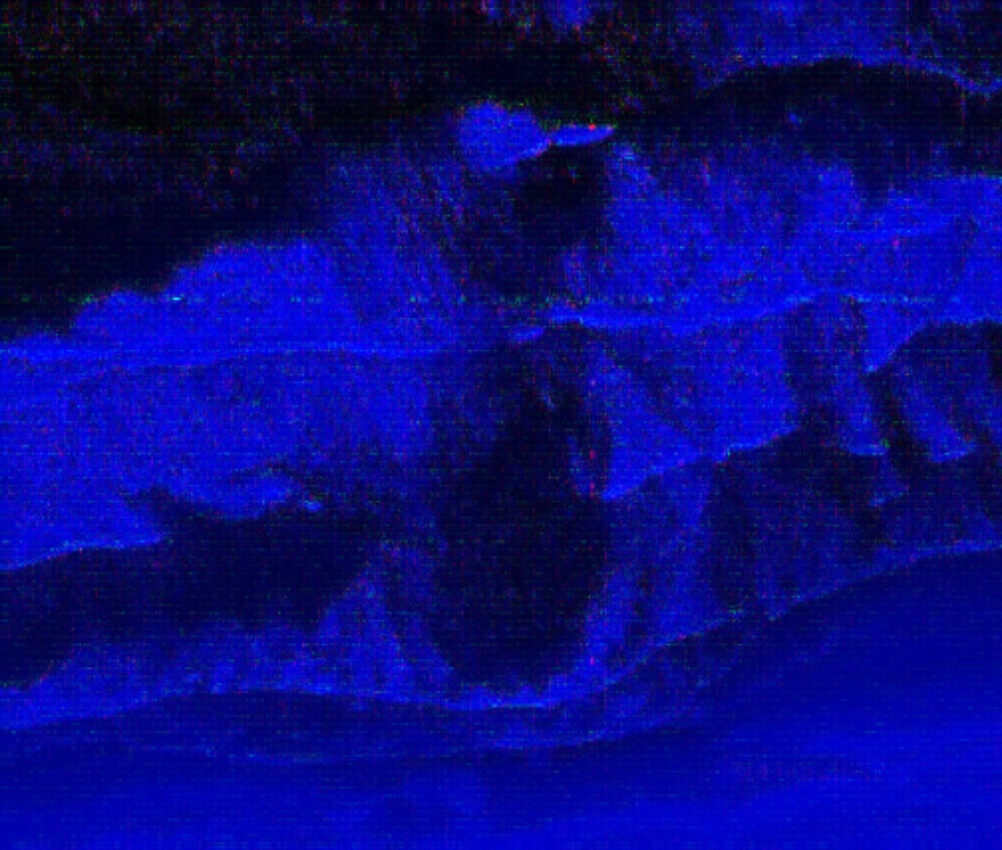rip_current: (378, 159, 639, 686)
